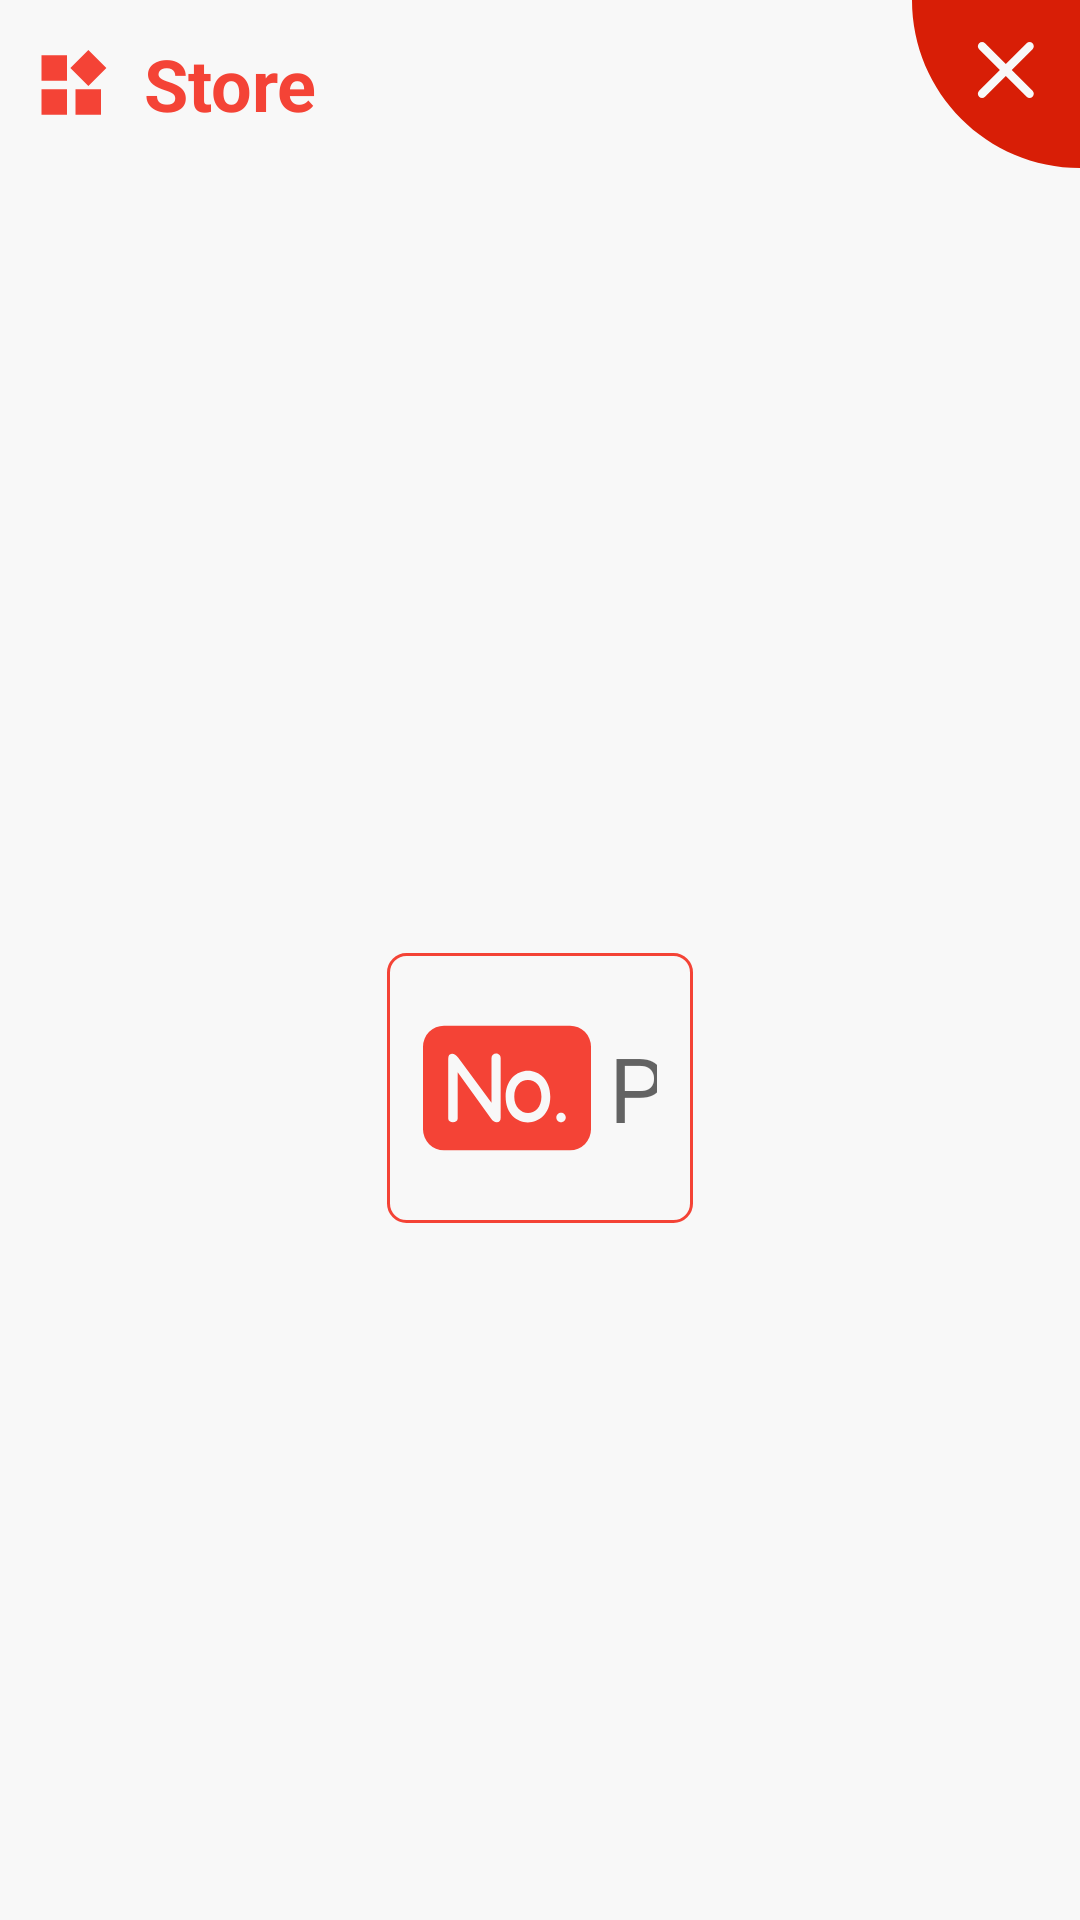

Named icons in this screenshot (1080w x 1920h) and their bounding boxes, {"left": x1, "top": y1, "right": x2, "bottom": y2}:
close: {"left": 912, "top": 0, "right": 1080, "bottom": 168}
